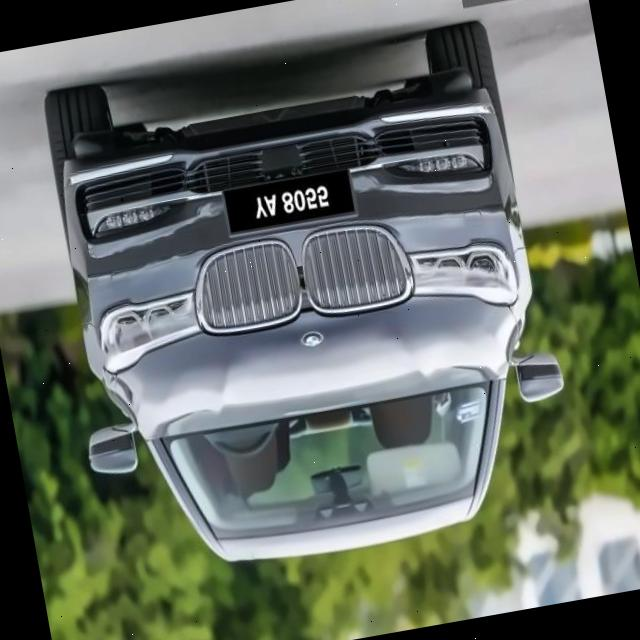License_Plate: (224, 166, 359, 237)
car: (17, 13, 592, 590)
